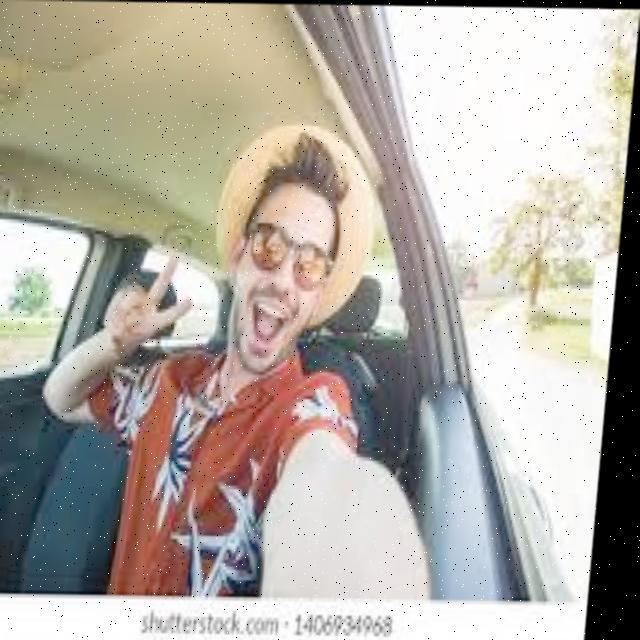noSeatbelt: (115, 318, 372, 600)
